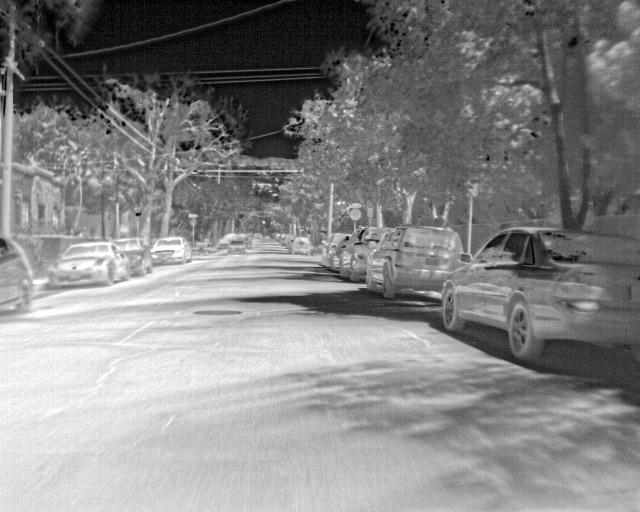bicycle: (440, 225, 639, 359), (364, 223, 464, 298), (48, 241, 130, 289), (339, 226, 392, 281), (0, 233, 32, 316), (106, 236, 151, 273), (321, 231, 352, 270), (150, 236, 190, 265), (290, 235, 311, 254), (226, 240, 248, 255)
